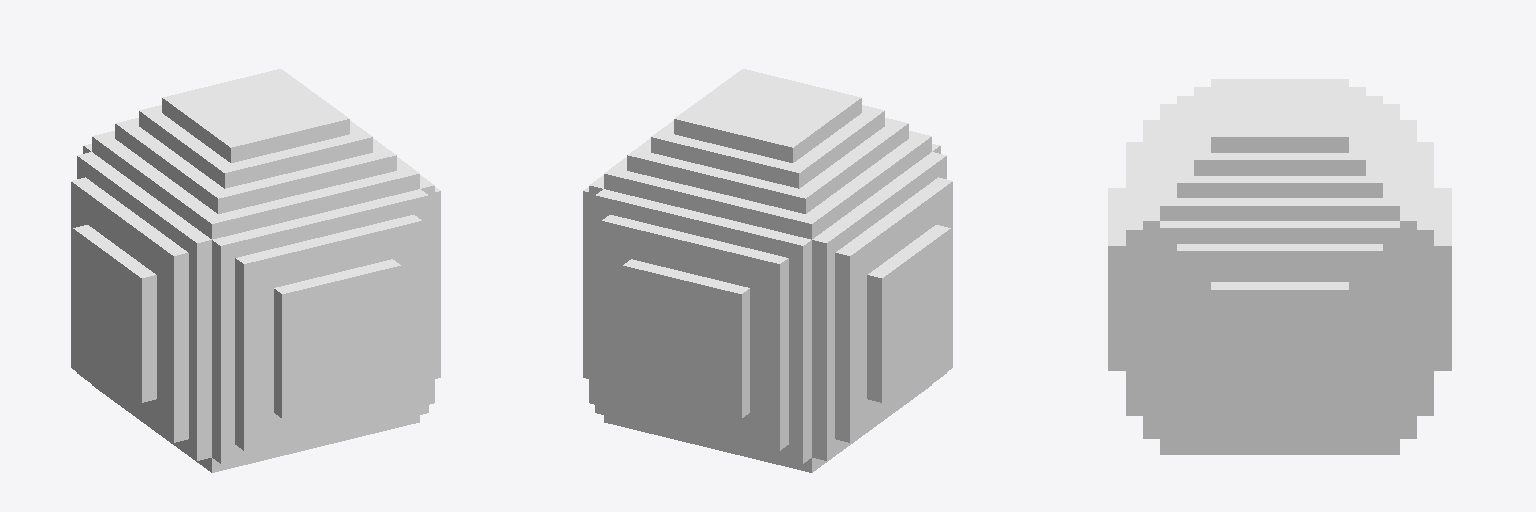
File: Lander3_Cockpit.obj
3 renders of one model, left to right at view 1: azimuth 30°, elevation 25°; view 2: azimuth 150°, elevation 25°; view 3: azimuth 270°, elevation 25°, orthographic.
Parts seen in each view (by area): view 1: Lander3_Cockpit; view 2: Lander3_Cockpit; view 3: Lander3_Cockpit.
Boxes of the visible parts, x1=… form: Lander3_Cockpit: x1=71, y1=69, x2=440, y2=472; Lander3_Cockpit: x1=583, y1=69, x2=952, y2=472; Lander3_Cockpit: x1=1108, y1=79, x2=1451, y2=454.
Size of the model in its own units: 20 by 19 by 20.